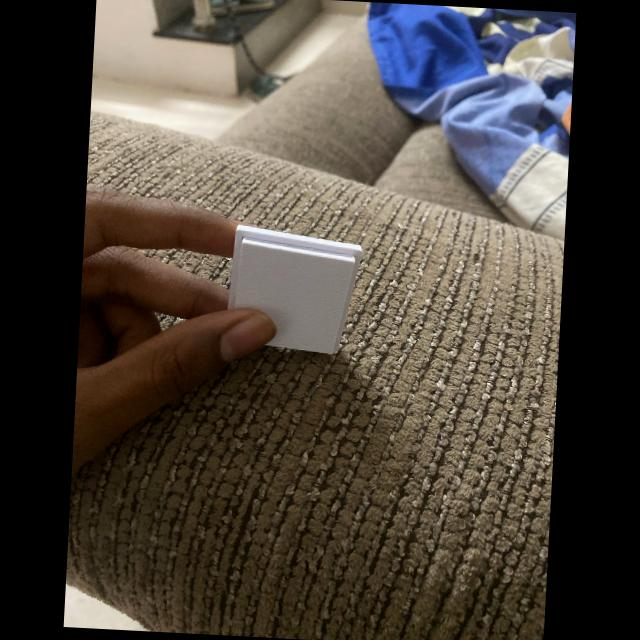RASPBERY PI CAM ENCLOSURE: (225, 225, 364, 356)
